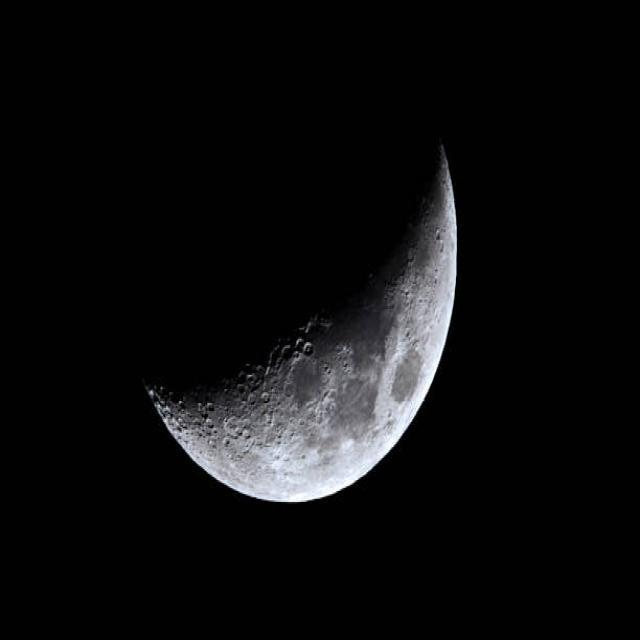moon: (102, 42, 486, 504)
